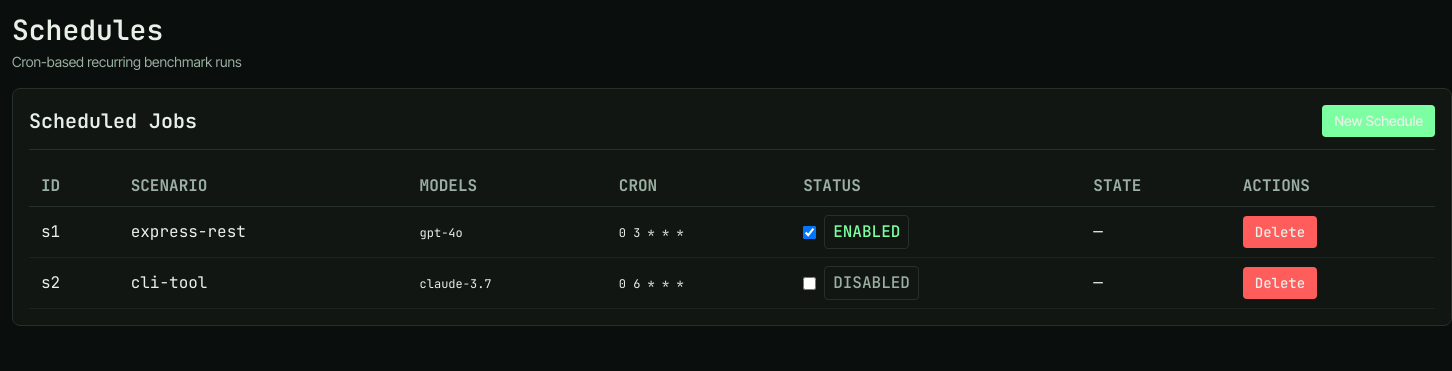
it: Schedules › surfaces delete failures
Expected: the text "express-rest" is shown, [119,206,408,258]
Click the button "Delete" in the row of "s1": (1280, 232) [1243,216,1317,248]
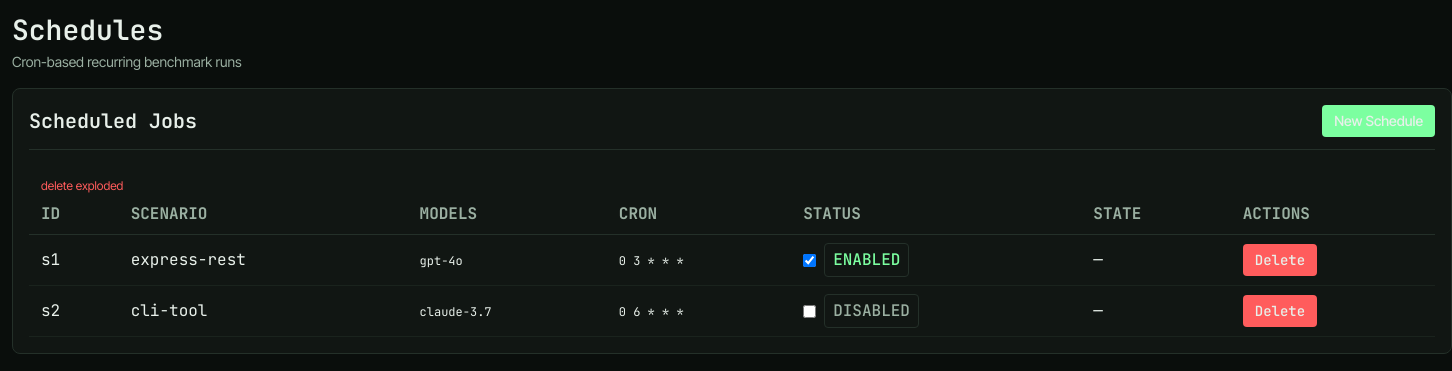
Expected: the message reads "delete exploded", [41,178,123,193]
